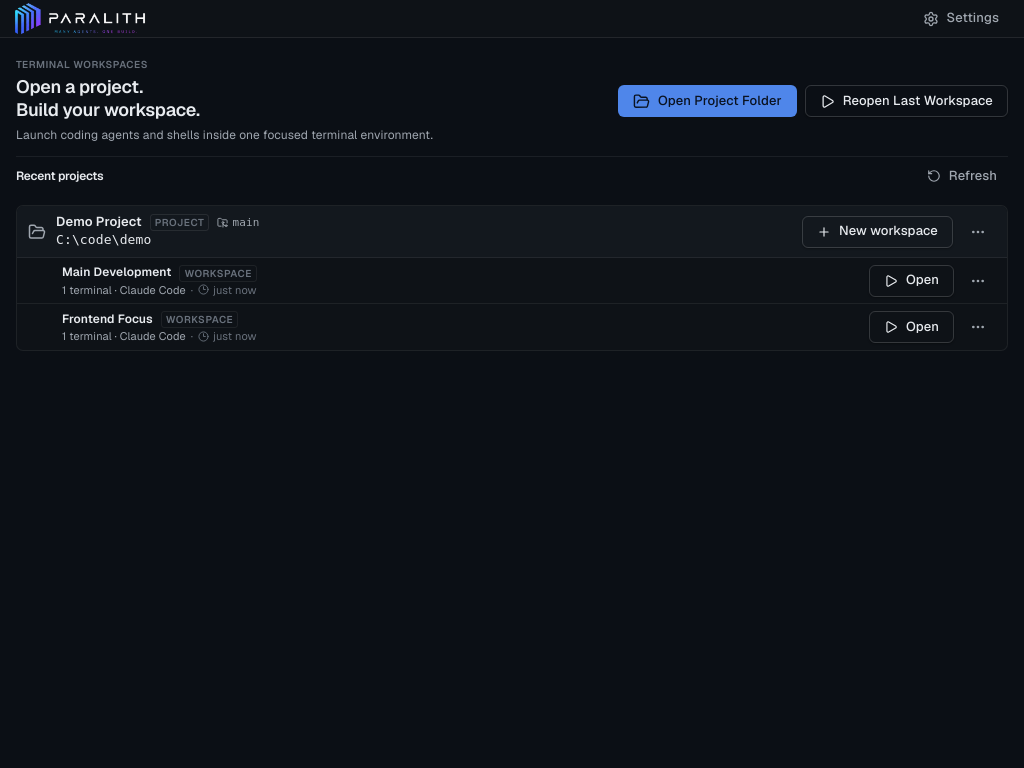
Test: Project Launcher › shows a workspace chooser when opening a project with multiple workspaces
The width and height of the screenshot is (1024, 768).
Expected: the text "Demo Project" is shown, [56, 214, 142, 231]
Click the button named "More actions for project Demo Project" at (978, 232), box [959, 216, 997, 248]
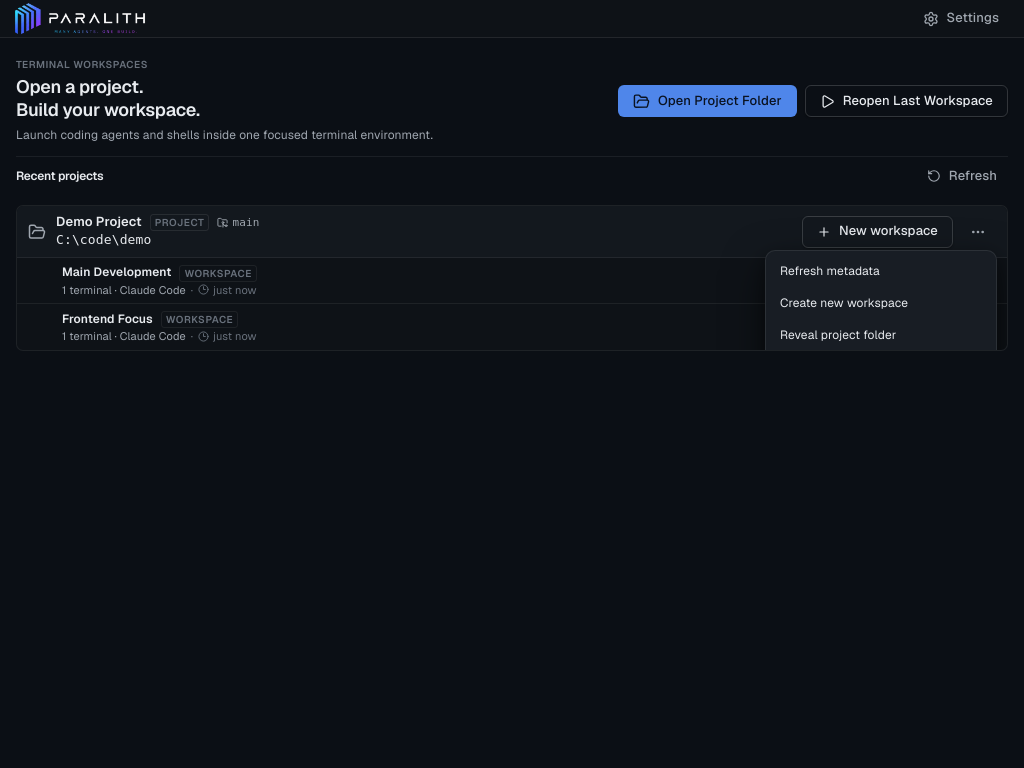
Click the menu item "Refresh metadata" at (881, 272), box [771, 256, 991, 288]
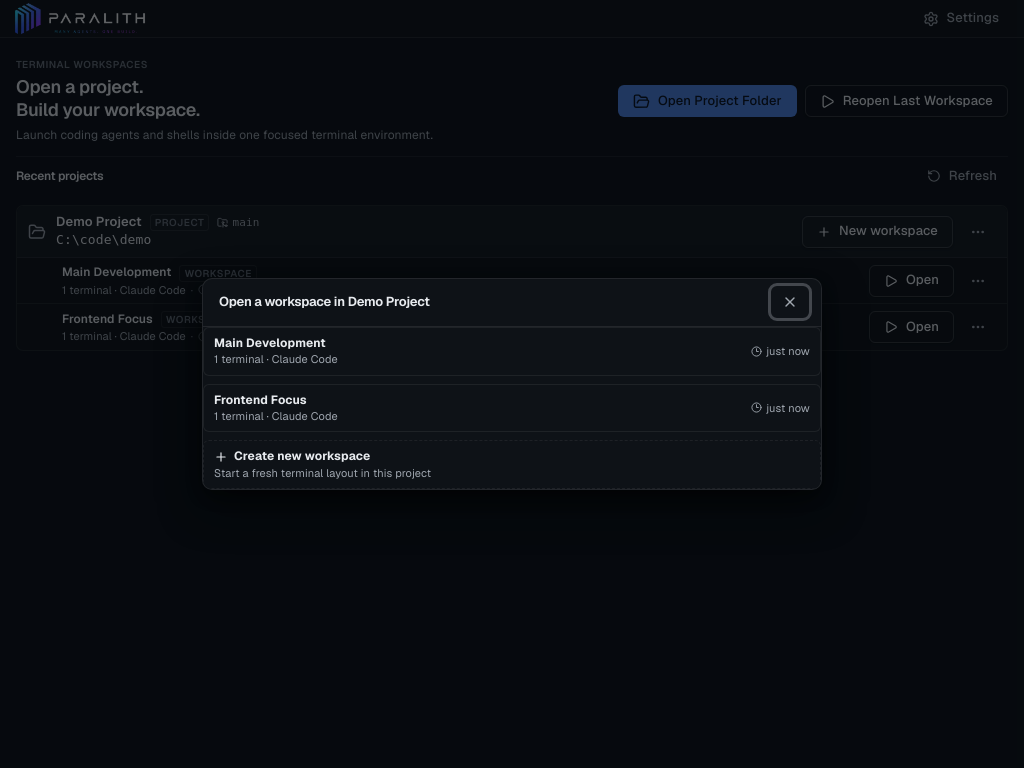
Now the heading "Open a workspace in Demo Project" is shown, box [219, 294, 430, 311]
